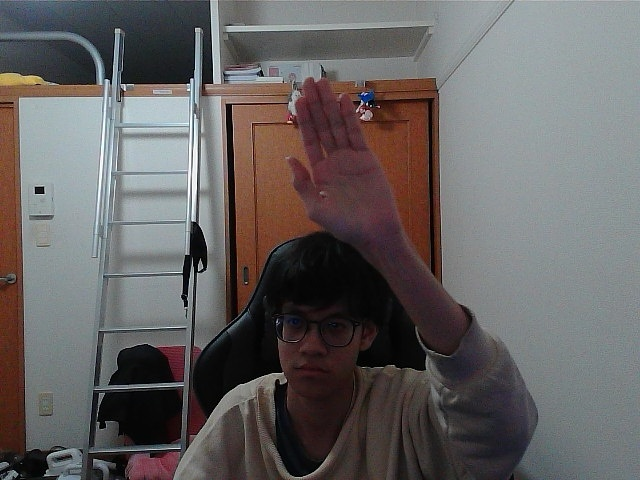open_palm: (293, 84, 369, 227)
